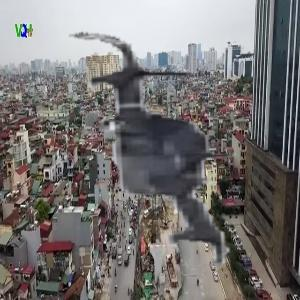drone: (11, 15, 287, 291)
